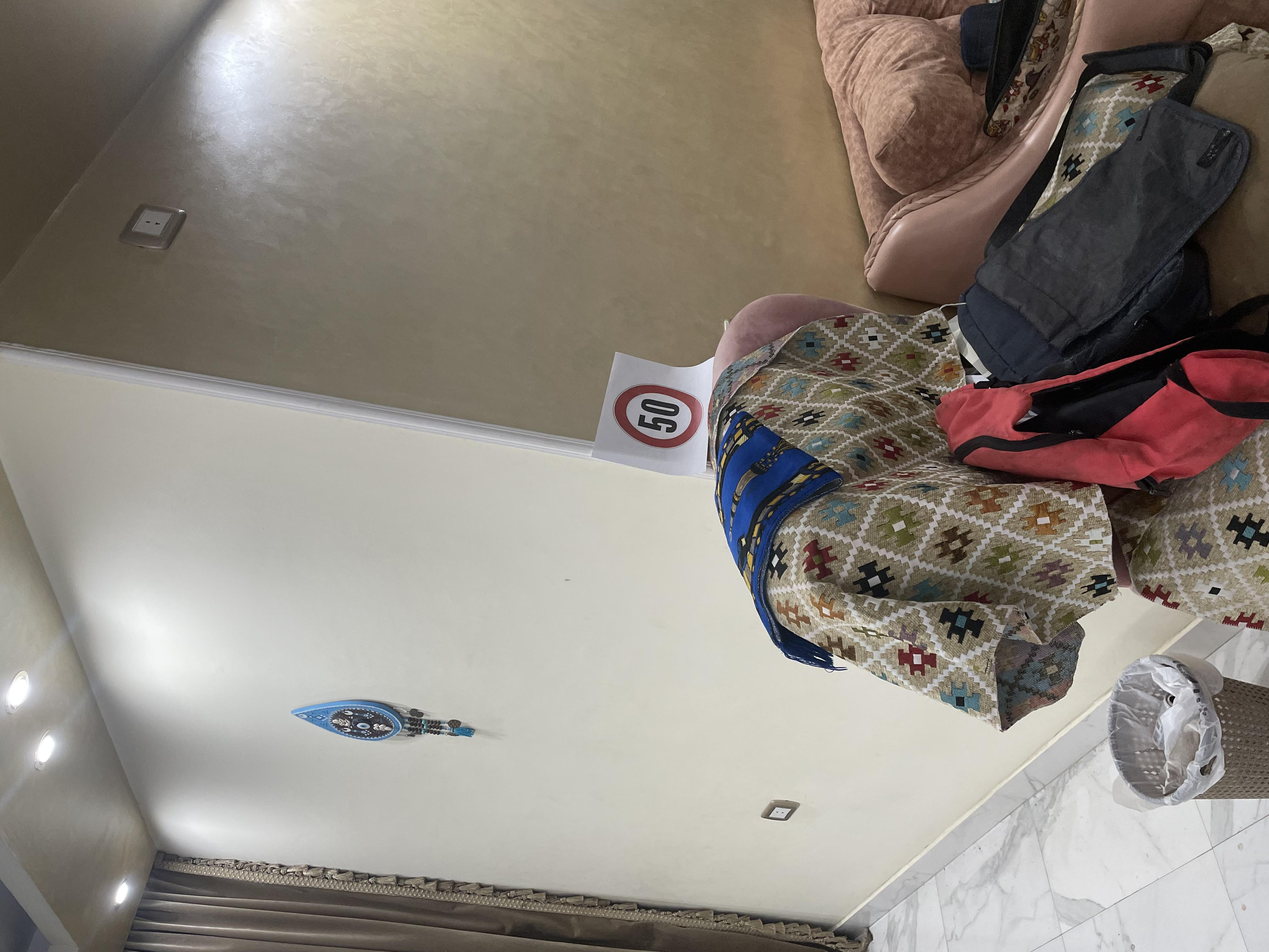50-Speed: (669, 457, 762, 528)
